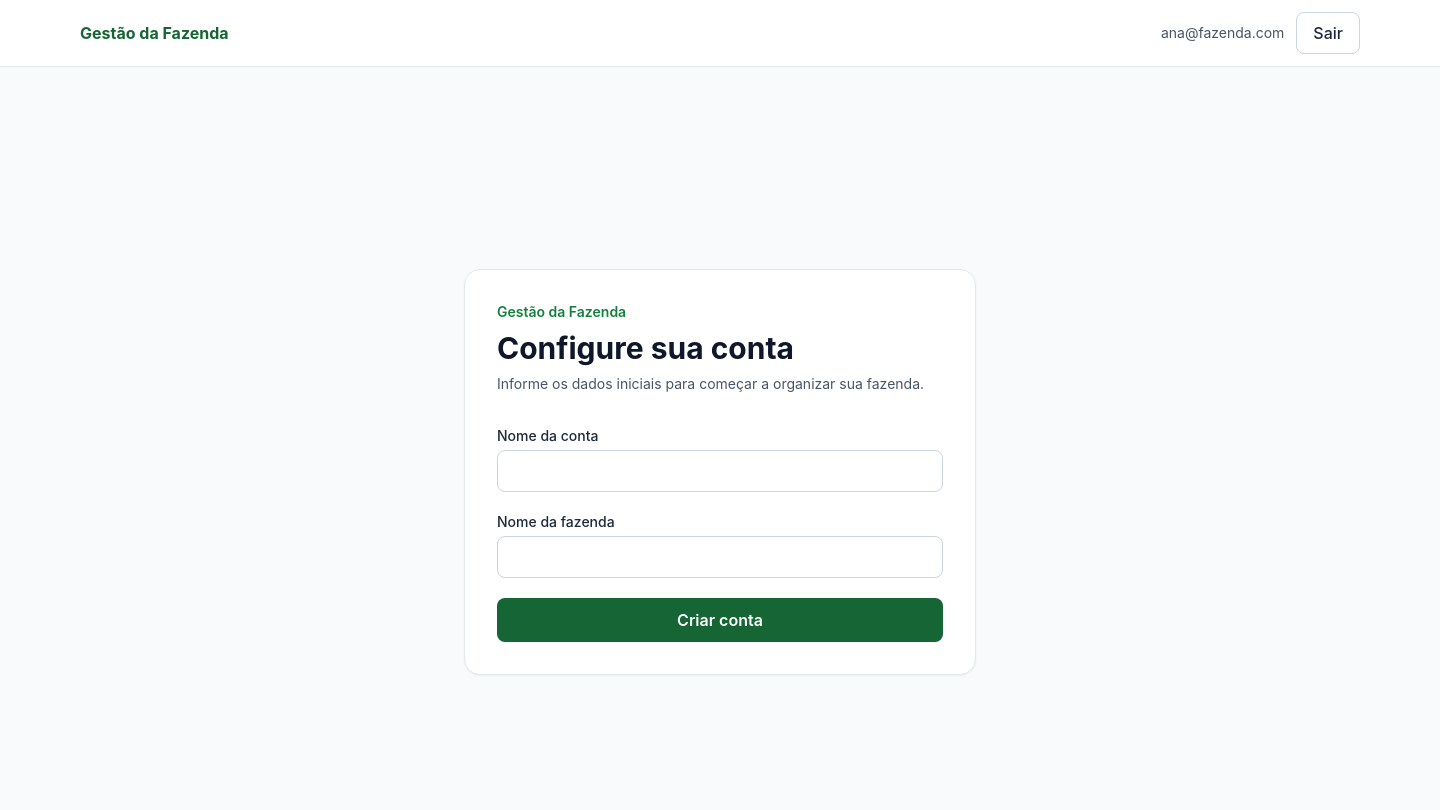
it: application routes › allows logout after an empty farm list redirects to onboarding
Expected: the field labelled "Nome da conta" is shown, [497,450,943,492]
Expected: the text "ana@fazenda.com" is shown, [1161,23,1284,43]
Click the button "Sair".
click(1328, 33)  # box [1296,12,1360,54]
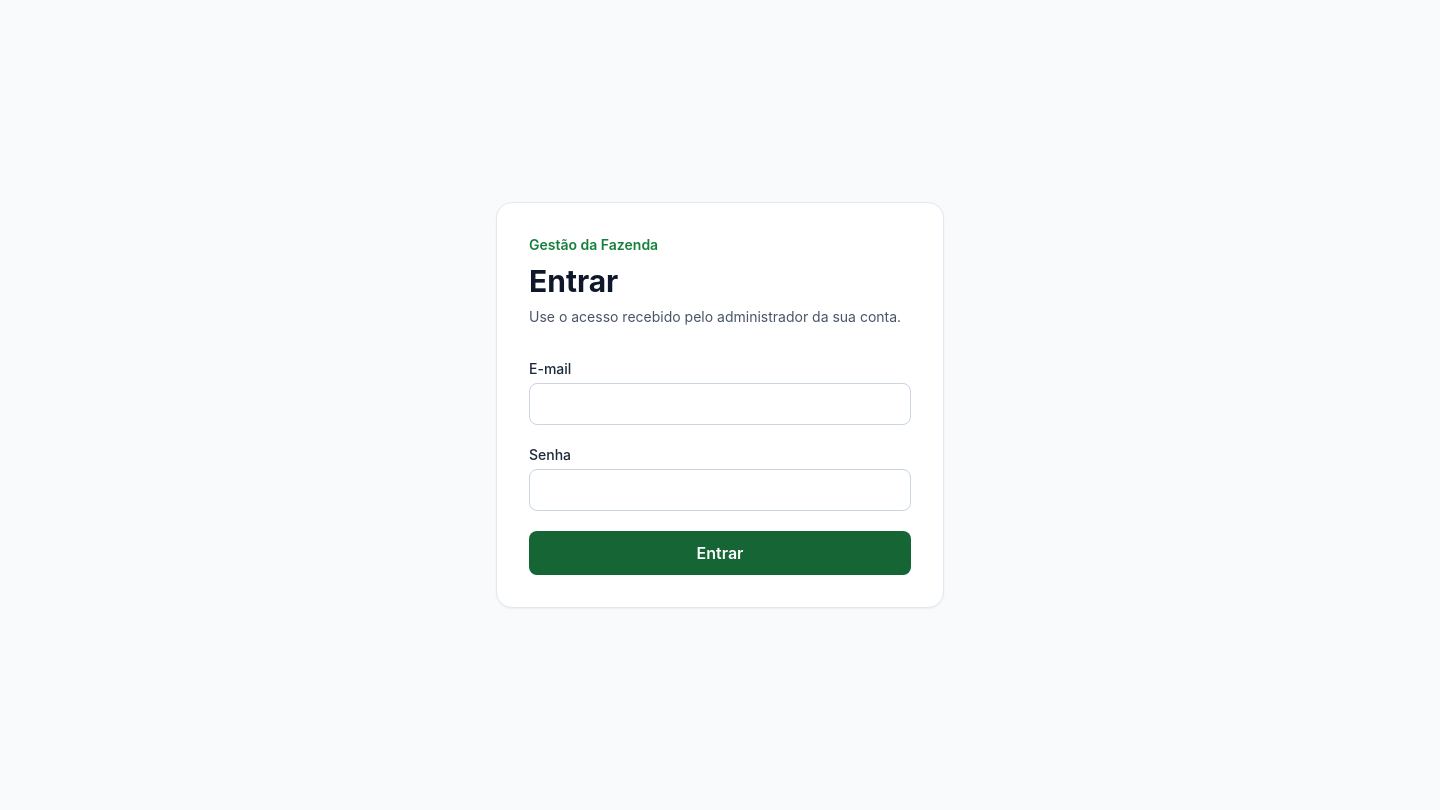
Expected: the heading "Entrar" is shown, [529,263,618,299]
